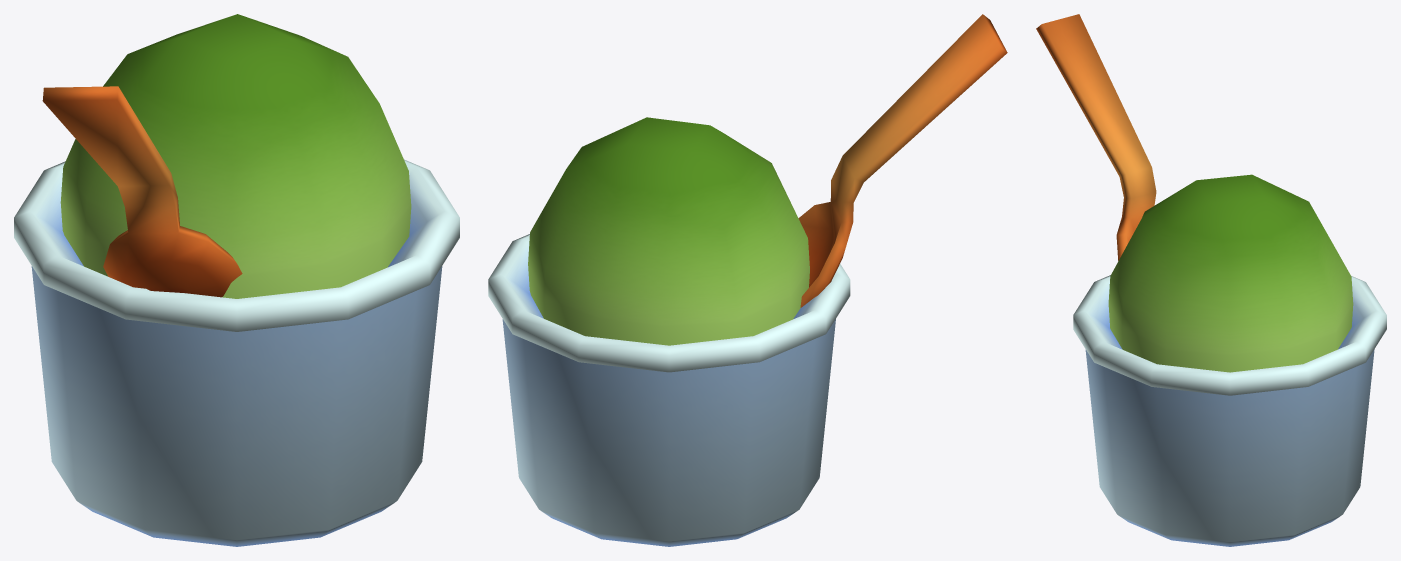
File: m_ShavedIce03.fbx
The picture shows the model from 3 angles, left to right: view 1: azimuth 30°, elevation 25°; view 2: azimuth 150°, elevation 25°; view 3: azimuth 270°, elevation 25°; orthographic projection. The views are drawn at different scales.
Parts seen in each view (by area): view 1: m_ShavedIce03; view 2: m_ShavedIce03; view 3: m_ShavedIce03.
Part boxes in pixels (bbox=[...]): m_ShavedIce03: bbox=[14, 14, 459, 546]; m_ShavedIce03: bbox=[488, 14, 1007, 546]; m_ShavedIce03: bbox=[1036, 14, 1386, 546].
Size of the model in its own units: 17.63 by 18.57 by 15.27.
